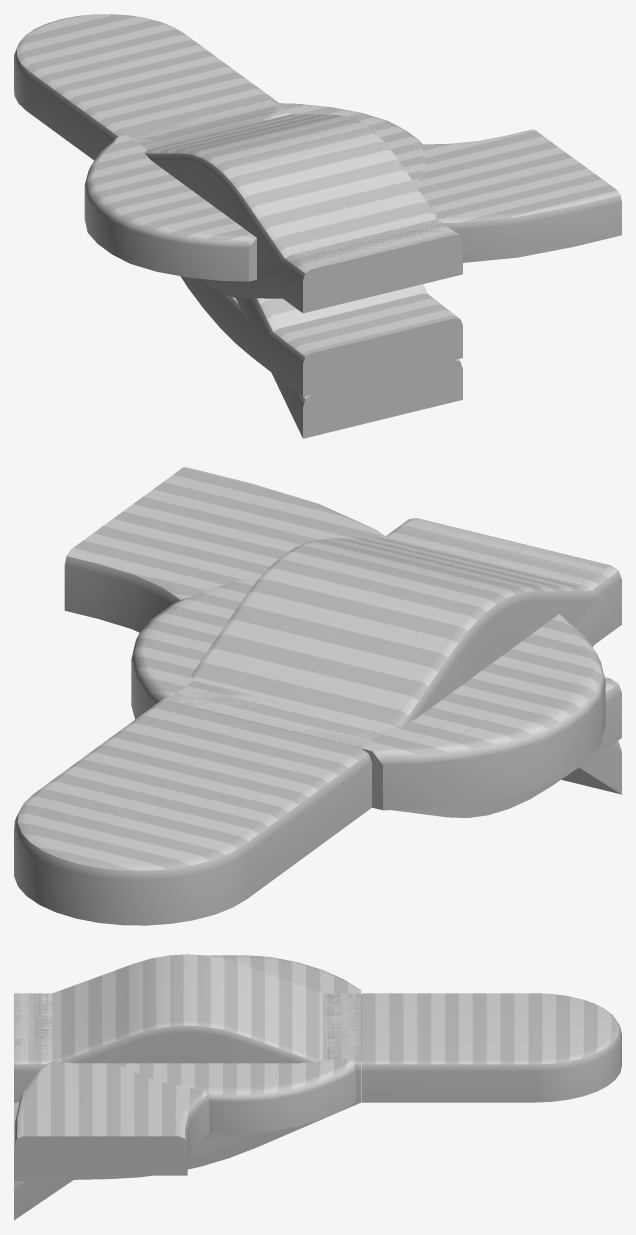
The model's file is Floor_2x2_SoftEdge_thin.fbx.
3 renders of one model, top to bottom at view 1: azimuth 30°, elevation 25°; view 2: azimuth 150°, elevation 25°; view 3: azimuth 270°, elevation 25°, orthographic. The views are drawn at different scales.
Visible parts, largest first — view 1: Floor_2x2_SE_Tn_hill, Floor_2x2_SE_Tn_cap, Floor_2x2_SE_Tn_rotate, Floor_2x2_SE_Tn_circle, Floor_2x2_SE_Tn_ramp2, Floor_2x2_SE_Tn_ramp1, Floor_2x2_SE_Tn_deep; view 2: Floor_2x2_SE_Tn_cap, Floor_2x2_SE_Tn_hill, Floor_2x2_SE_Tn_circle, Floor_2x2_SE_Tn_rotate, Floor_2x2_SE_Tn_deep, Floor_2x2_SE_Tn_ramp2, Floor_2x2_SE_Tn_ramp1, Floor_2x2_SE_Tn_main; view 3: Floor_2x2_SE_Tn_hill, Floor_2x2_SE_Tn_cap, Floor_2x2_SE_Tn_rotate, Floor_2x2_SE_Tn_circle, Floor_2x2_SE_Tn_deep, Floor_2x2_SE_Tn_ramp2, Floor_2x2_SE_Tn_main, Floor_2x2_SE_Tn_ramp1.
Part boxes in pixels (bbox=[...]): Floor_2x2_SE_Tn_hill: bbox=[131, 99, 462, 313]; Floor_2x2_SE_Tn_cap: bbox=[14, 14, 275, 160]; Floor_2x2_SE_Tn_rotate: bbox=[415, 129, 621, 262]; Floor_2x2_SE_Tn_circle: bbox=[84, 103, 425, 281]; Floor_2x2_SE_Tn_ramp2: bbox=[180, 276, 462, 396]; Floor_2x2_SE_Tn_ramp1: bbox=[127, 111, 462, 438]; Floor_2x2_SE_Tn_deep: bbox=[201, 99, 459, 312]; Floor_2x2_SE_Tn_cap: bbox=[14, 701, 371, 925]; Floor_2x2_SE_Tn_hill: bbox=[159, 518, 610, 747]; Floor_2x2_SE_Tn_circle: bbox=[131, 577, 605, 810]; Floor_2x2_SE_Tn_rotate: bbox=[64, 467, 385, 632]; Floor_2x2_SE_Tn_deep: bbox=[161, 518, 621, 742]; Floor_2x2_SE_Tn_ramp2: bbox=[391, 677, 621, 817]; Floor_2x2_SE_Tn_ramp1: bbox=[275, 724, 621, 794]; Floor_2x2_SE_Tn_main: bbox=[165, 681, 361, 748]; Floor_2x2_SE_Tn_hill: bbox=[14, 954, 361, 1102]; Floor_2x2_SE_Tn_cap: bbox=[361, 993, 621, 1102]; Floor_2x2_SE_Tn_rotate: bbox=[14, 1060, 209, 1175]; Floor_2x2_SE_Tn_circle: bbox=[117, 955, 361, 1133]; Floor_2x2_SE_Tn_deep: bbox=[14, 993, 361, 1140]; Floor_2x2_SE_Tn_ramp2: bbox=[14, 1102, 360, 1181]; Floor_2x2_SE_Tn_main: bbox=[323, 993, 361, 1102]; Floor_2x2_SE_Tn_ramp1: bbox=[14, 997, 352, 1220].
Bounding box in the file's own units: 503 × 249 × 700.
